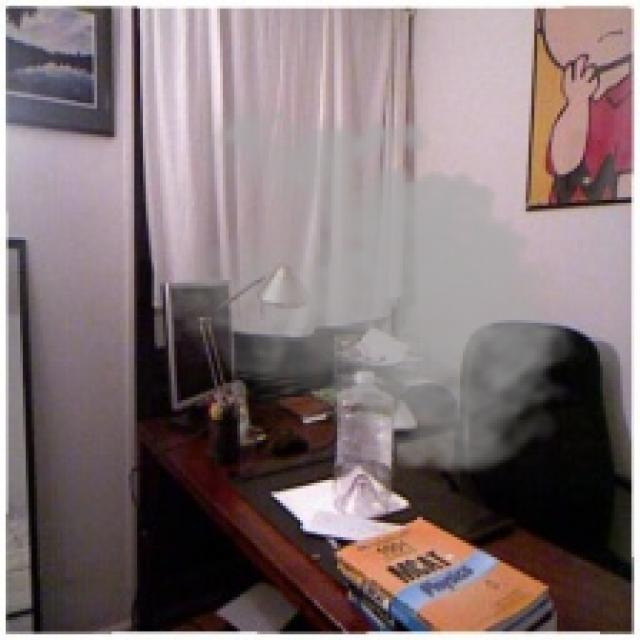smoke: (166, 94, 588, 483)
